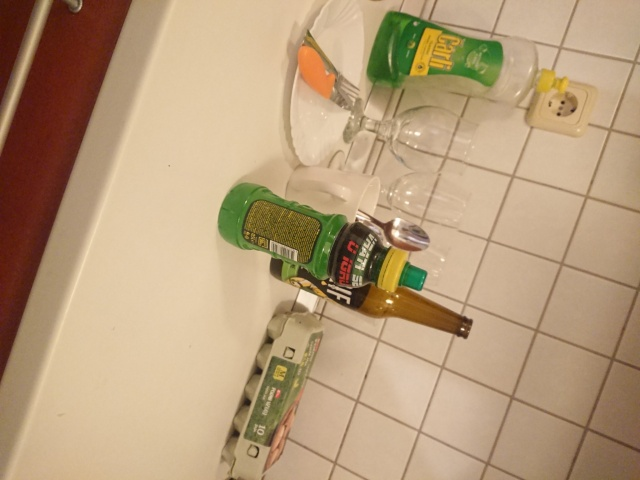Vindi Iso Sport Lemon-Grapefruit 500mL: (214, 180, 430, 295)
